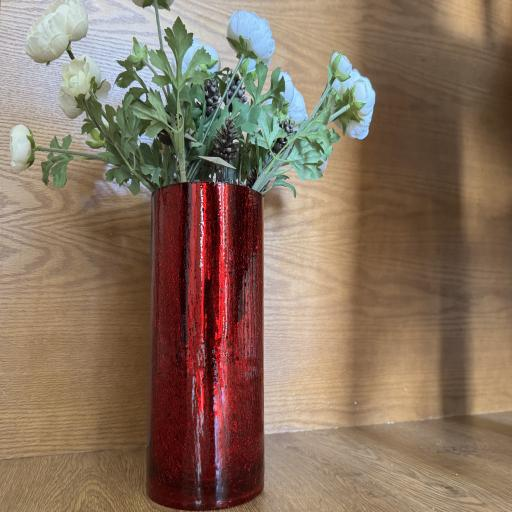Plant Pot: (147, 178, 265, 508)
